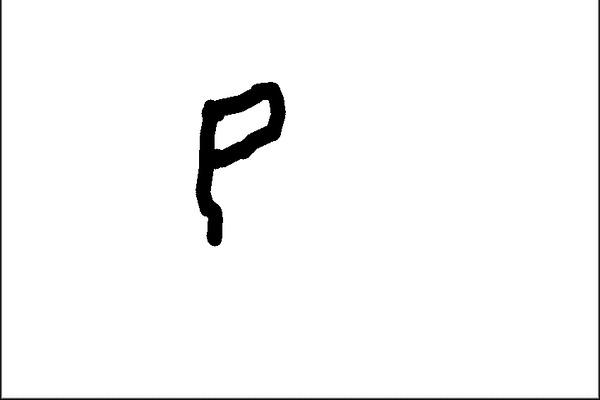P: (184, 67, 293, 260)
